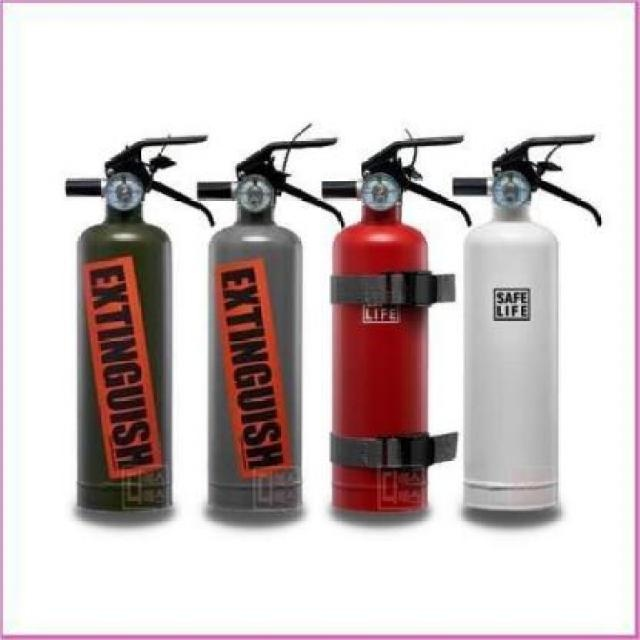fire extinguisher: (65, 136, 218, 513), (320, 135, 472, 513), (452, 134, 603, 512), (197, 136, 346, 513)
